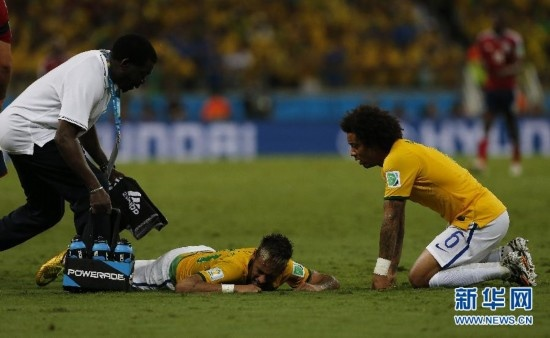falling: (336, 99, 543, 286)
